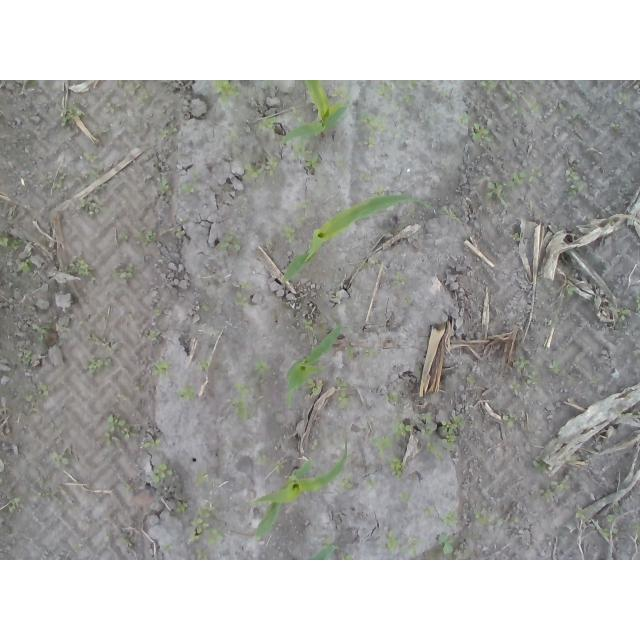Maize: (281, 193, 420, 280), (251, 436, 349, 541), (285, 327, 344, 409), (281, 80, 347, 148), (304, 544, 336, 561)
Weeds: (192, 504, 225, 545), (376, 80, 418, 112), (99, 414, 136, 447), (458, 110, 490, 143), (384, 530, 420, 559), (243, 155, 280, 182), (290, 141, 321, 173), (358, 110, 382, 150), (232, 382, 255, 422), (211, 80, 241, 108), (442, 415, 465, 448), (485, 180, 511, 209), (368, 434, 394, 459), (64, 254, 92, 277), (32, 321, 51, 352), (564, 169, 585, 197), (215, 231, 242, 251), (480, 81, 513, 96), (510, 169, 543, 184), (336, 380, 353, 409), (128, 82, 151, 103), (88, 356, 112, 376), (387, 456, 406, 481), (181, 169, 199, 195), (22, 383, 48, 401), (134, 223, 158, 242), (110, 261, 135, 279), (152, 463, 172, 485), (609, 303, 631, 322), (50, 447, 71, 466), (393, 418, 412, 439), (234, 279, 249, 305), (329, 85, 353, 101), (437, 534, 455, 555), (440, 205, 461, 223), (419, 413, 434, 438), (62, 104, 84, 121), (0, 235, 24, 250), (254, 357, 274, 375), (256, 114, 277, 131), (80, 199, 100, 216), (280, 222, 296, 242), (17, 349, 34, 367), (524, 96, 541, 113), (304, 378, 322, 394), (513, 354, 530, 370), (177, 387, 196, 401), (158, 127, 178, 140), (151, 361, 169, 375), (336, 477, 352, 492), (8, 496, 22, 513), (18, 259, 34, 273), (192, 471, 208, 485), (443, 510, 458, 524), (473, 511, 488, 525), (526, 367, 537, 386), (142, 330, 159, 342), (551, 480, 569, 491), (531, 459, 545, 473), (396, 273, 409, 288), (226, 130, 241, 143), (195, 548, 210, 561), (360, 257, 377, 268), (426, 441, 438, 456), (53, 173, 65, 188), (619, 90, 630, 105), (175, 500, 187, 513), (547, 359, 561, 370), (85, 151, 99, 162), (256, 452, 268, 464), (302, 319, 314, 331), (144, 440, 160, 449), (158, 179, 169, 192), (575, 506, 585, 519), (567, 287, 578, 298), (373, 185, 384, 196), (358, 173, 370, 183), (364, 348, 376, 358), (119, 536, 134, 544), (386, 394, 399, 403), (260, 80, 273, 89), (503, 413, 514, 423), (542, 488, 554, 497), (272, 464, 284, 473), (297, 112, 305, 125), (399, 492, 409, 502), (466, 374, 476, 384), (199, 359, 209, 369), (573, 112, 584, 121), (310, 440, 319, 451), (610, 123, 624, 130), (298, 200, 310, 208), (635, 295, 640, 313), (496, 519, 505, 529), (617, 411, 632, 417), (509, 383, 520, 391), (601, 528, 610, 537), (368, 478, 376, 488), (403, 296, 413, 304), (423, 507, 433, 515), (511, 108, 518, 119), (414, 368, 422, 377), (346, 344, 355, 352), (264, 239, 272, 247), (340, 556, 352, 561), (509, 233, 517, 240), (607, 514, 614, 522), (153, 308, 160, 315)
